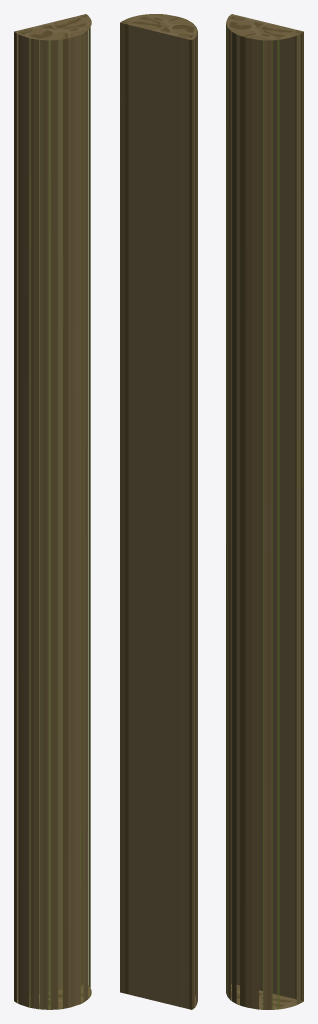
File: demicercle.fbx
The picture shows the model from 3 angles, left to right: view 1: azimuth 30°, elevation 25°; view 2: azimuth 150°, elevation 25°; view 3: azimuth 330°, elevation 25°; orthographic projection.
Visible parts, largest first — view 1: Demi-cercle; view 2: Demi-cercle; view 3: Demi-cercle.
Part boxes in pixels (left/top/right/bottom): Demi-cercle: left=14, top=14, right=91, bottom=1009; Demi-cercle: left=120, top=14, right=197, bottom=1009; Demi-cercle: left=226, top=14, right=303, bottom=1009.
Bounding box in the file's own units: 100 × 1285 × 49.75.
